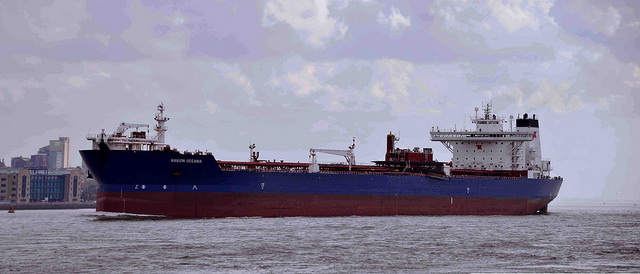tanker: (79, 107, 568, 221)
